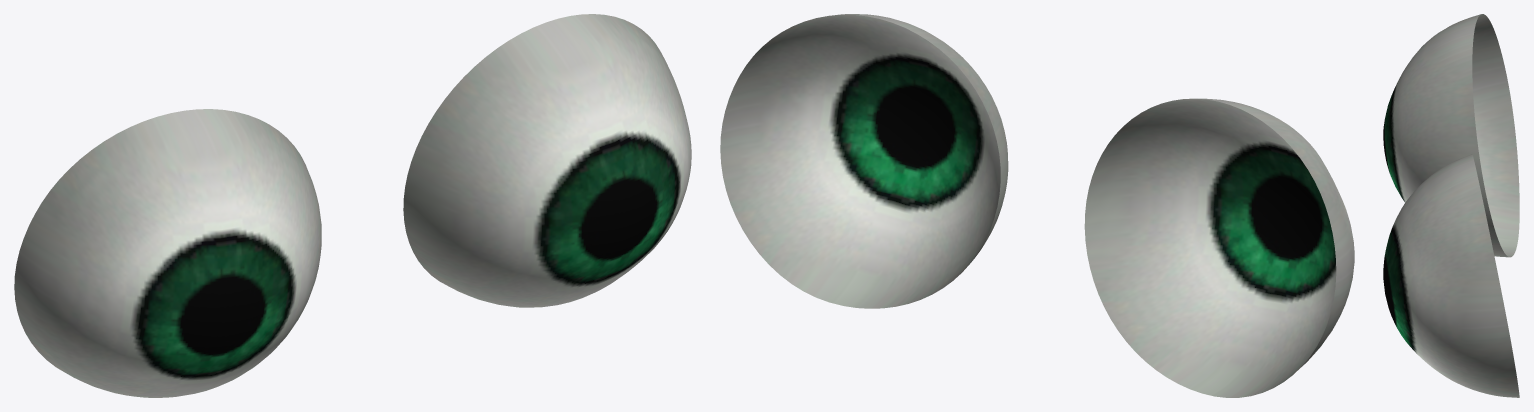
The model's file is Male_Eyes_Green.glb.
3 renders of one model, left to right at view 1: azimuth 30°, elevation 25°; view 2: azimuth 150°, elevation 25°; view 3: azimuth 270°, elevation 25°, orthographic. The views are drawn at different scales.
Parts seen in each view (by area): view 1: Male_Eyes_Green; view 2: Male_Eyes_Green; view 3: Male_Eyes_Green.
Boxes of the visible parts, left/top/right/bottom form: Male_Eyes_Green: left=14, top=14, right=691, bottom=397; Male_Eyes_Green: left=720, top=14, right=1354, bottom=397; Male_Eyes_Green: left=1383, top=14, right=1519, bottom=397.
Size of the model in its own units: 0.3476 by 0.1461 by 0.0823.
1 material, 1 textured.
